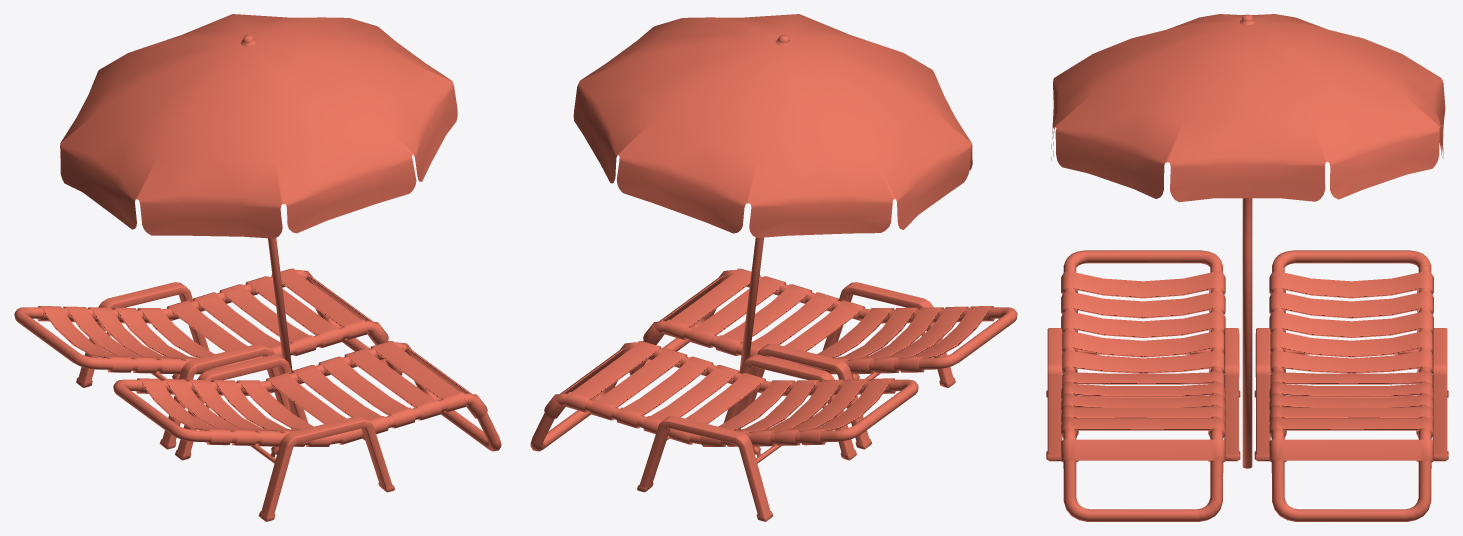
File: beach-parasol.glb
3 views of the same model, side by side, from view 1: azimuth 30°, elevation 25°; view 2: azimuth 150°, elevation 25°; view 3: azimuth 270°, elevation 25° (orthographic). The views are drawn at different scales.
Visible parts, largest first — view 1: FtrBeachparasol_node7, FtrBeachparasol_node6; view 2: FtrBeachparasol_node7, FtrBeachparasol_node6; view 3: FtrBeachparasol_node6, FtrBeachparasol_node7.
Part boxes in pixels (<box>): FtrBeachparasol_node7: <box>60,14,457,238</box>; FtrBeachparasol_node6: <box>14,35,501,521</box>; FtrBeachparasol_node7: <box>573,14,972,237</box>; FtrBeachparasol_node6: <box>530,34,1017,521</box>; FtrBeachparasol_node6: <box>1046,14,1448,521</box>; FtrBeachparasol_node7: <box>1051,14,1445,202</box>.
Size of the model in its own units: 1.96 by 2.33 by 1.98.
